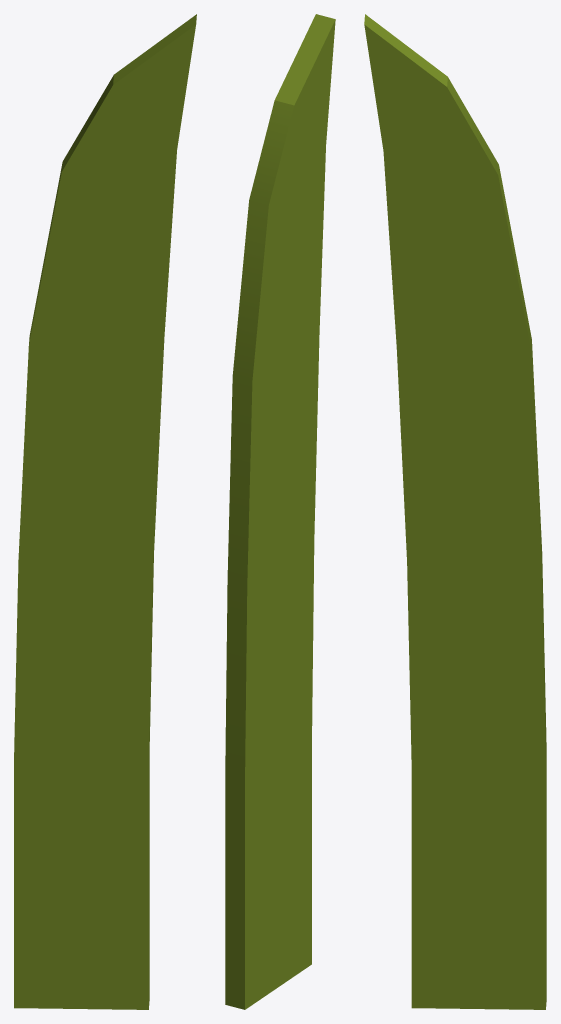
Rendered from Grass_Blade.fbx.
3 views of the same model, side by side, from view 1: azimuth 90°, elevation 25°; view 2: azimuth 150°, elevation 25°; view 3: azimuth 270°, elevation 25° (orthographic). The views are drawn at different scales.
Parts seen in each view (by area): view 1: pCube15; view 2: pCube15; view 3: pCube15.
Boxes of the visible parts, x1,y1,x2,y2 form: pCube15: (14,14,196,1009); pCube15: (225,14,335,1009); pCube15: (364,14,546,1009).
Size of the model in its own units: 1.25 by 44.7 by 7.52.
